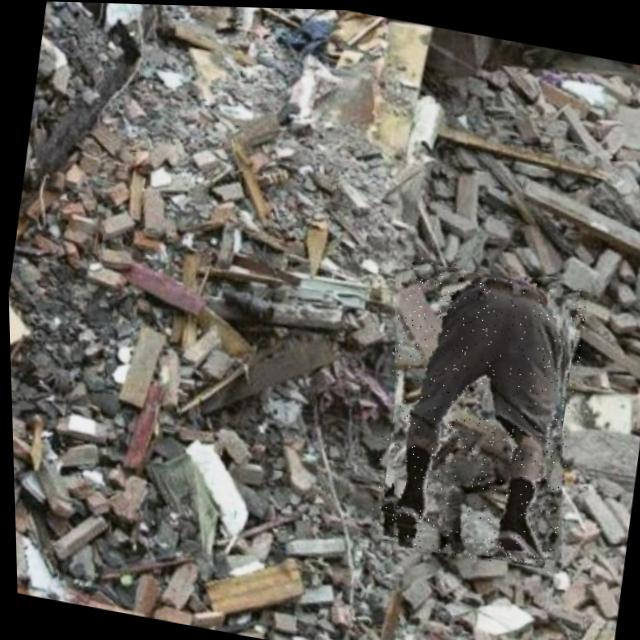Person in Rubble: (358, 252, 593, 572)
